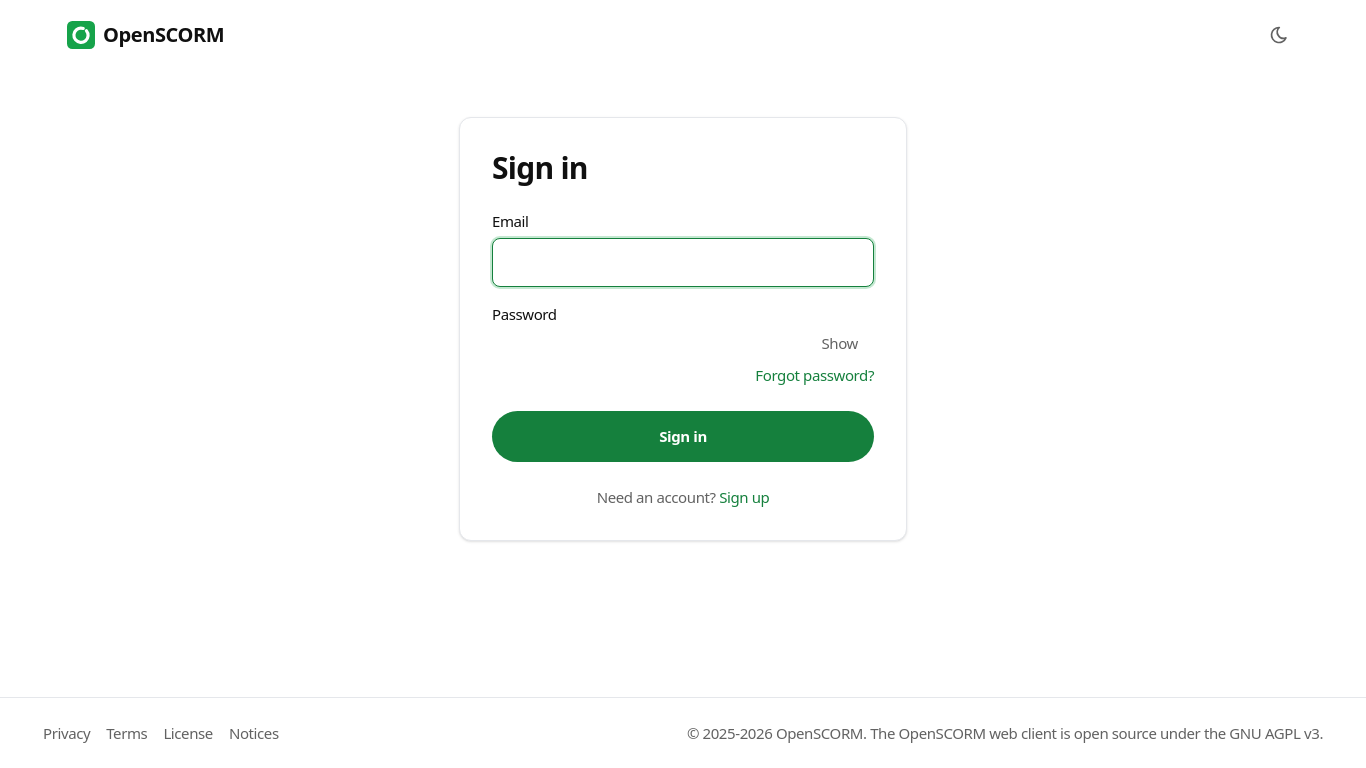
Scenario: sign-in page single sign-on discovery › offers single sign-on without the field ever losing focus
Type "zara@contoso.test" into the field labelled "Email". click: (683, 263)
box: [492, 238, 874, 287]
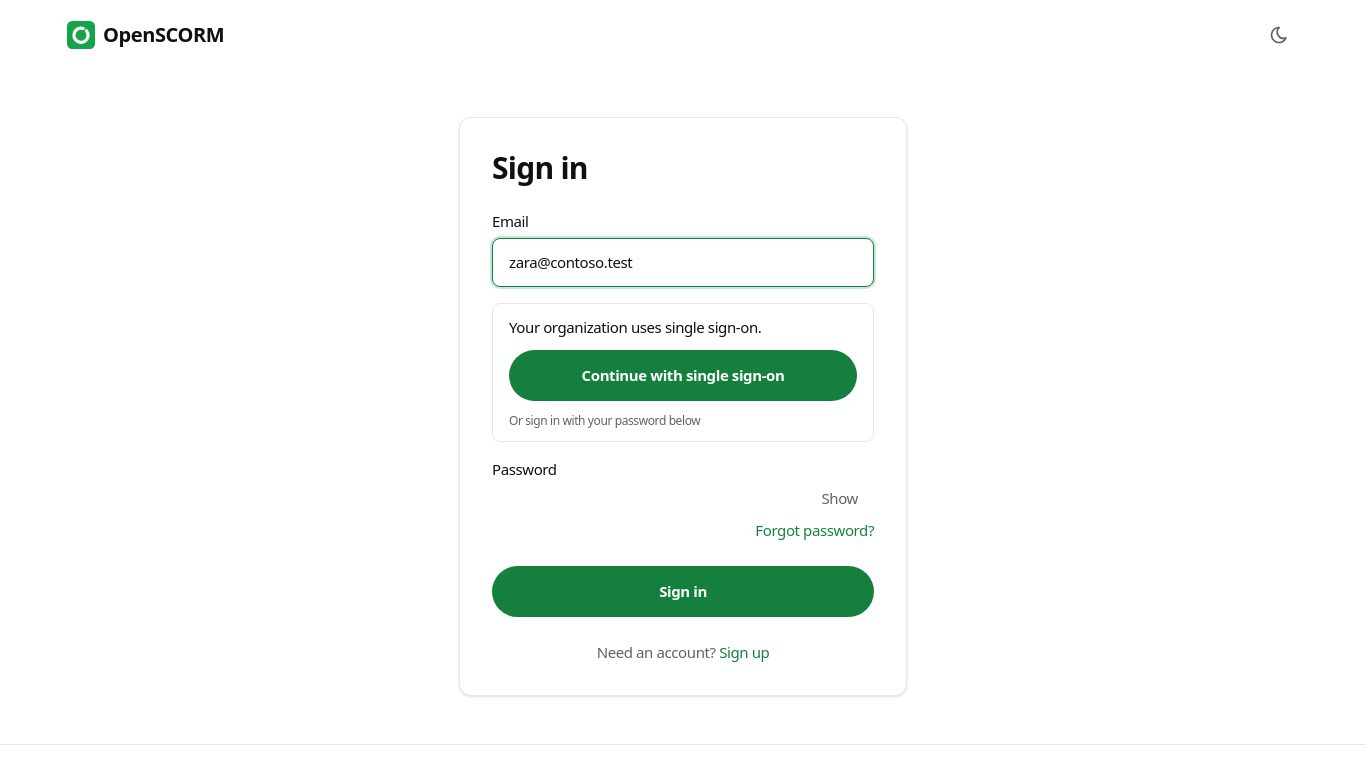
Check: the button "Continue with single sign-on" is shown, box [509, 350, 857, 401]
